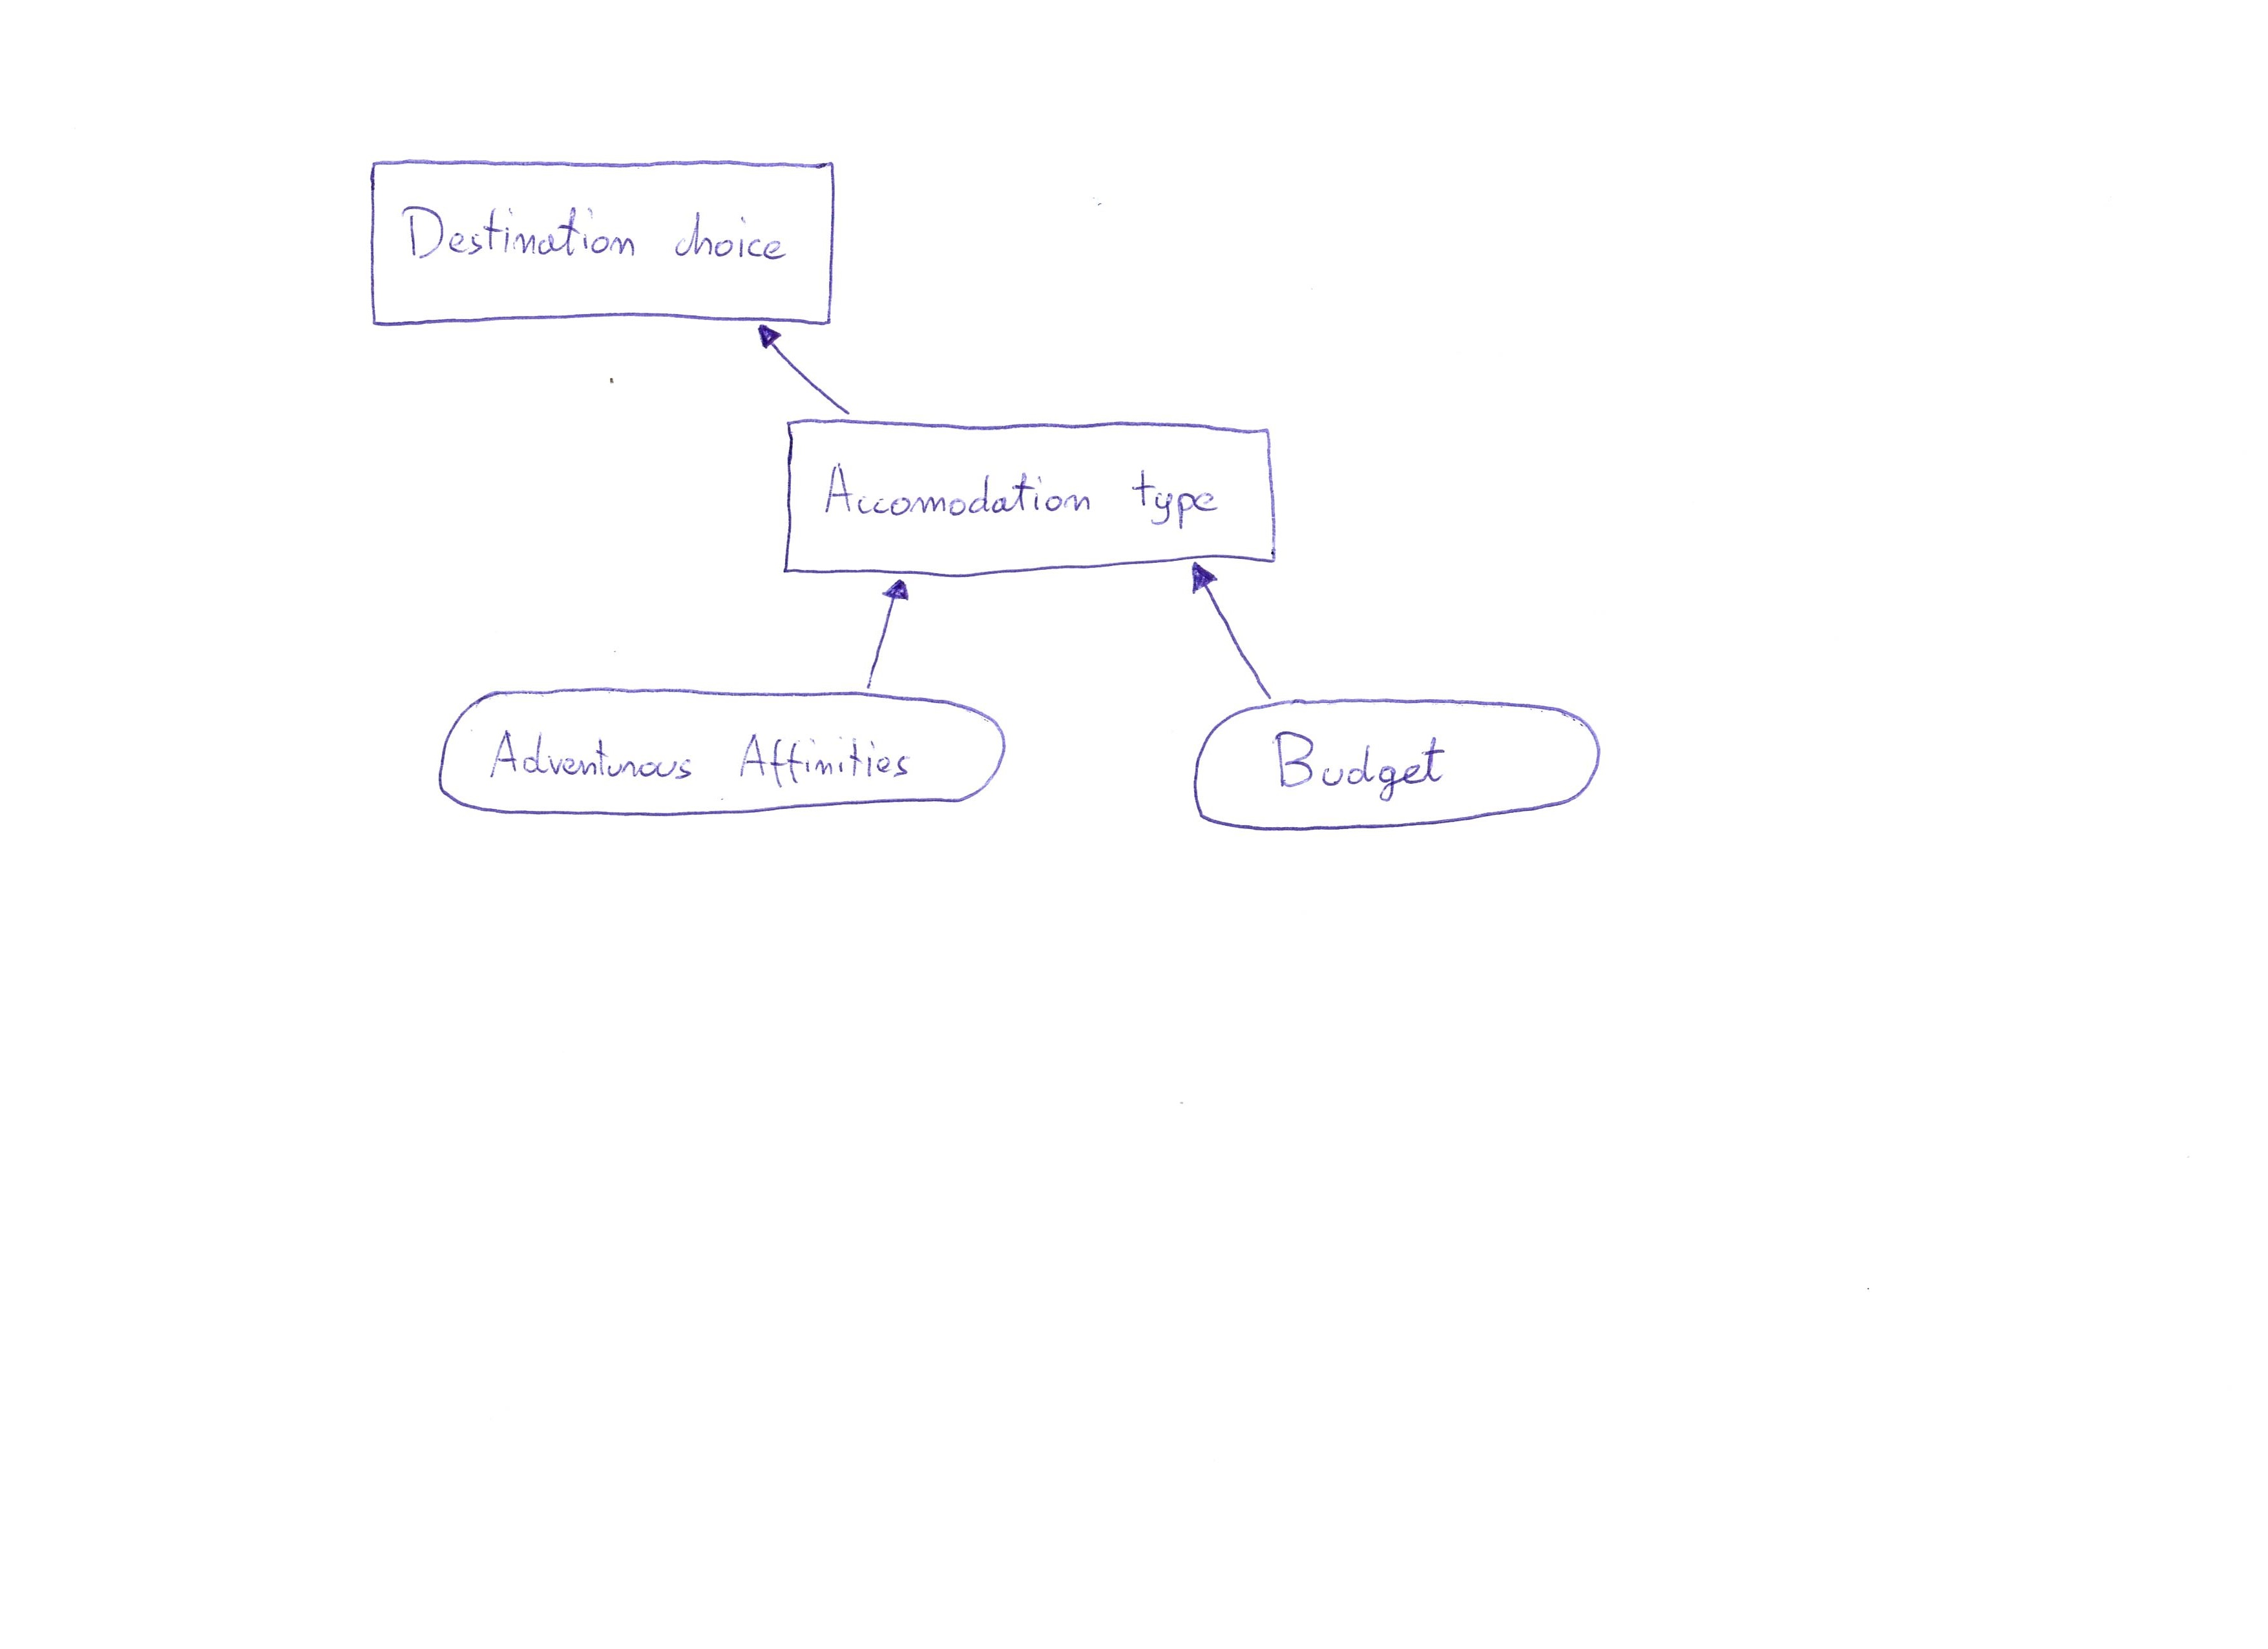arrow_information_requirement: (1176, 560, 1280, 701), (745, 321, 861, 418), (847, 576, 923, 691)
node_decision: (363, 153, 838, 326), (782, 416, 1280, 567)
node_input_data: (430, 684, 1020, 826), (1171, 696, 1625, 835)
text: (815, 449, 1229, 536), (482, 722, 930, 791), (396, 197, 801, 271), (1259, 722, 1460, 809)
